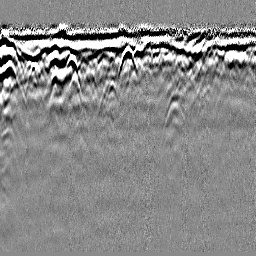cavity: (117, 41, 138, 81)
